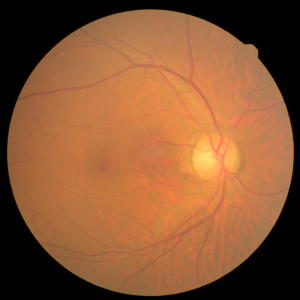cataract: (81, 94, 265, 215)
